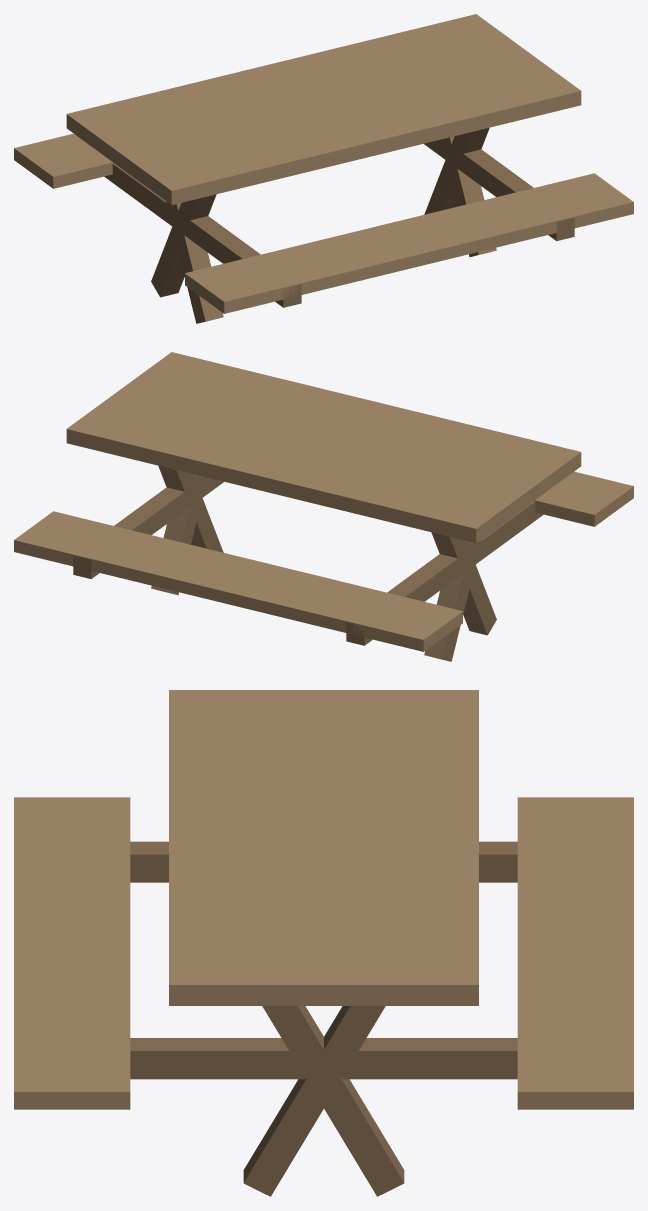
File: Piknik_Masasi.glb
3 views of the same model, one above another, from view 1: azimuth 30°, elevation 25°; view 2: azimuth 150°, elevation 25°; view 3: azimuth 270°, elevation 25° (orthographic). The views are drawn at different scales.
Parts seen in each view (by area): view 1: Piknik_Masasi; view 2: Piknik_Masasi; view 3: Piknik_Masasi.
Part boxes in pixels (x1=…): Piknik_Masasi: x1=14, y1=14, x2=633, y2=323; Piknik_Masasi: x1=14, y1=352, x2=633, y2=661; Piknik_Masasi: x1=14, y1=690, x2=633, y2=1196.
Bounding box in the file's own units: 1.8 × 0.7251 × 1.6.
